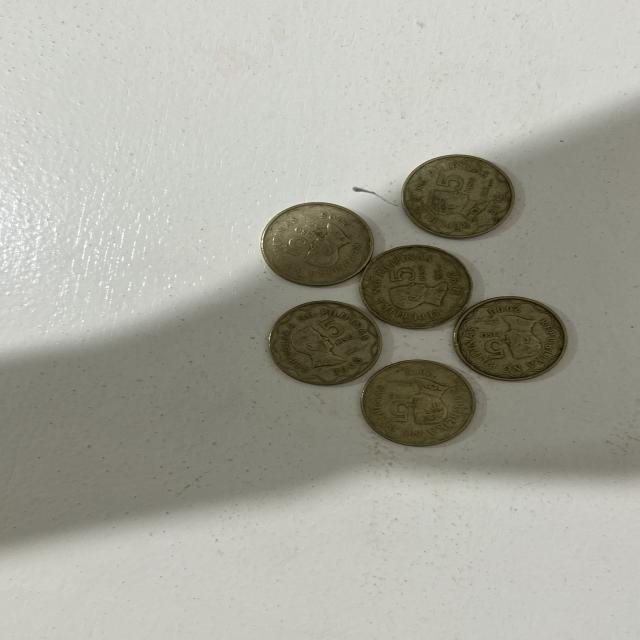5_Old_Front: (429, 167, 482, 199), (317, 313, 357, 350), (474, 326, 512, 360), (386, 388, 414, 428), (286, 221, 316, 258), (385, 262, 434, 282)
